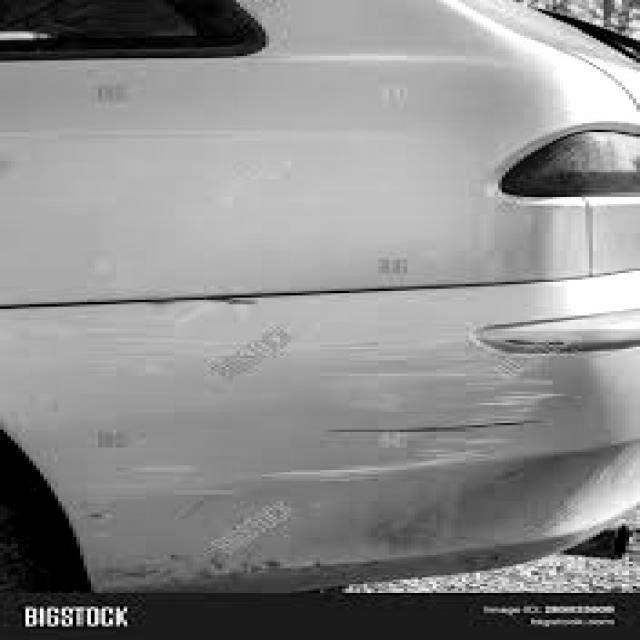quaterpanel-dent: (77, 339, 579, 541)
